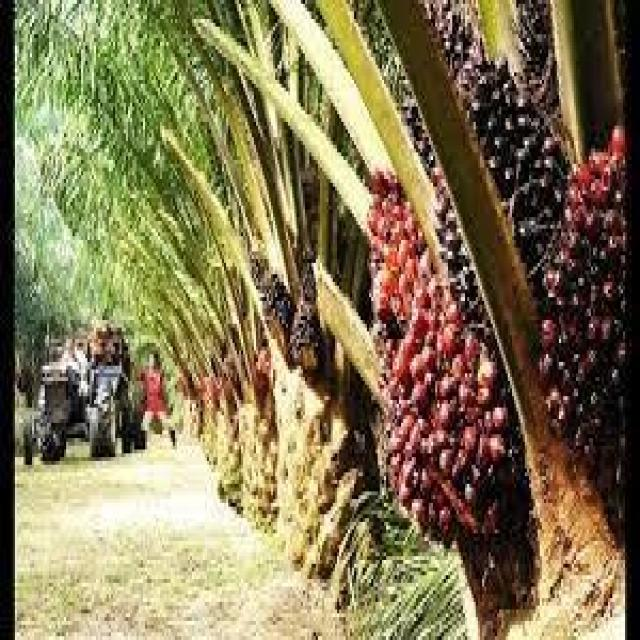Ripefruit: (385, 280, 520, 535), (547, 133, 635, 507), (365, 168, 433, 332)
